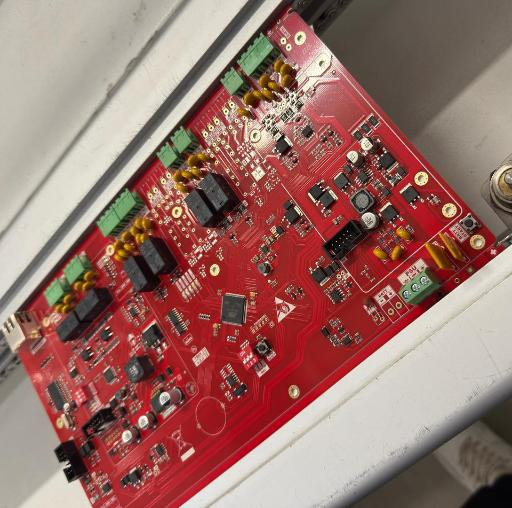var: (425, 241, 454, 271), (439, 232, 466, 263), (396, 227, 412, 241), (391, 246, 405, 261), (243, 92, 257, 106), (373, 248, 388, 261), (281, 74, 294, 88), (187, 155, 201, 168), (259, 74, 272, 88), (279, 63, 293, 76), (261, 89, 276, 101), (173, 171, 187, 183), (237, 108, 252, 119), (268, 81, 281, 93), (121, 241, 134, 253), (190, 168, 204, 179), (274, 59, 285, 73), (63, 294, 77, 305), (84, 271, 98, 282), (181, 171, 196, 181), (139, 219, 154, 229), (197, 153, 211, 163), (72, 282, 83, 294), (133, 217, 142, 231), (120, 233, 132, 243), (176, 184, 189, 193), (116, 250, 129, 259), (81, 285, 94, 293), (113, 254, 124, 263), (54, 306, 63, 316), (129, 227, 138, 237), (59, 307, 73, 313), (139, 235, 149, 243), (113, 241, 121, 250)
